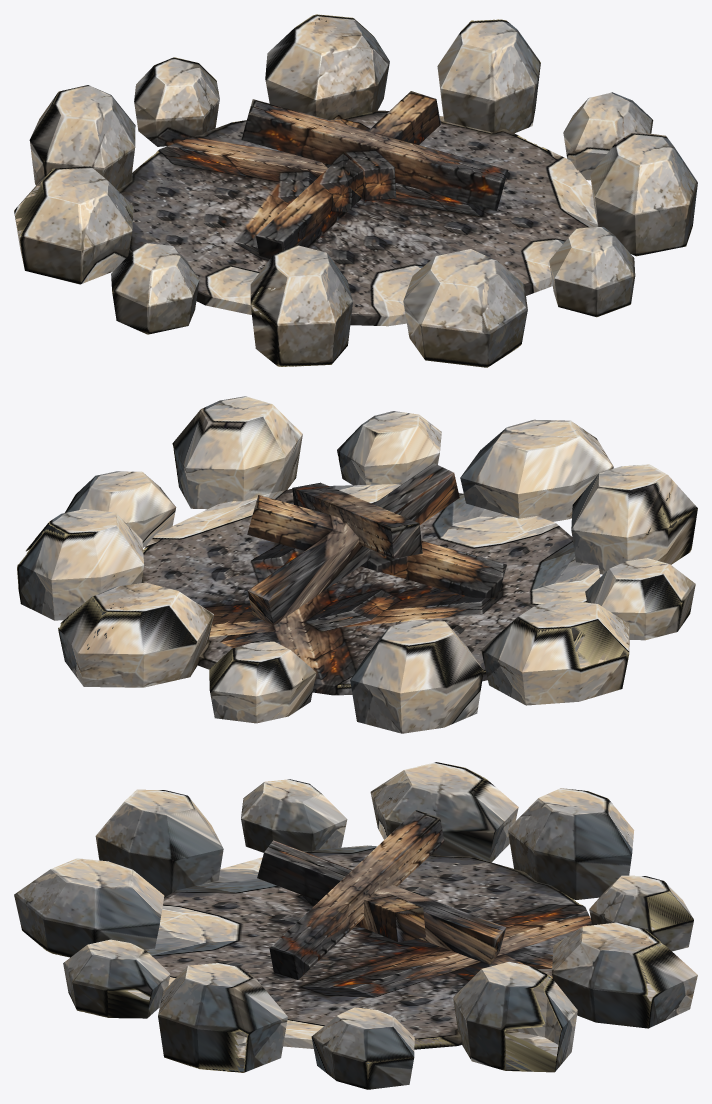
The model's file is firepit.glb.
The picture shows the model from 3 angles, top to bottom: view 1: azimuth 30°, elevation 25°; view 2: azimuth 150°, elevation 25°; view 3: azimuth 270°, elevation 25°; orthographic projection. The views are drawn at different scales.
Parts seen in each view (by area): view 1: firepit_game; view 2: firepit_game; view 3: firepit_game.
Boxes of the visible parts, x1,y1,x2,y2 form: firepit_game: (14,14,697,367); firepit_game: (17,396,697,733); firepit_game: (14,762,697,1089).
Bounding box in the file's own units: 1.96 × 0.3478 × 2.03.
1 material, 1 textured.
